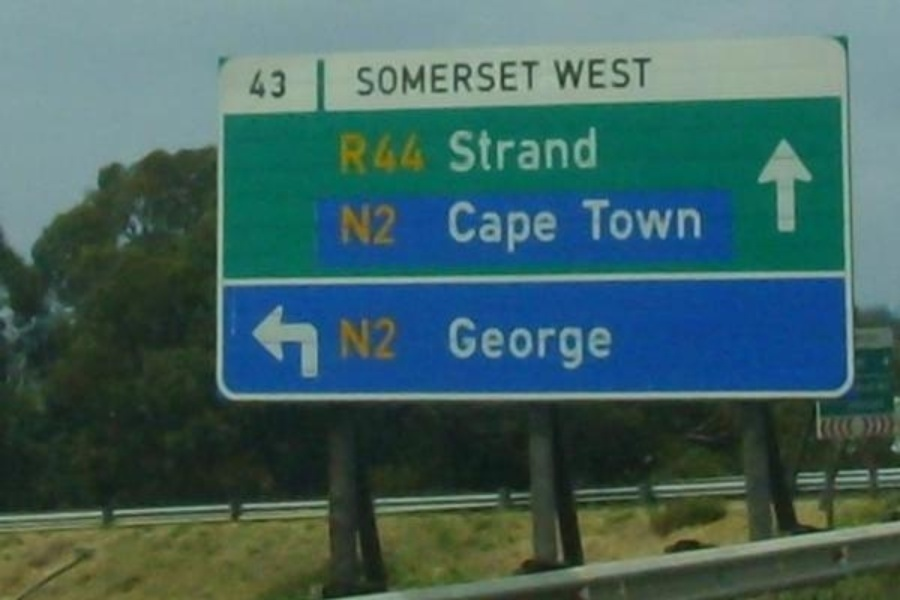text: (449, 197, 464, 256), (465, 197, 480, 256), (481, 197, 496, 256), (497, 197, 512, 256), (513, 197, 528, 256), (529, 197, 544, 256), (545, 197, 560, 256), (449, 316, 464, 371), (465, 316, 480, 371), (481, 316, 496, 371), (497, 316, 512, 371), (513, 316, 528, 371), (529, 316, 544, 371), (545, 316, 560, 371), (561, 316, 576, 371), (577, 316, 592, 371), (593, 316, 608, 371), (417, 128, 433, 178), (385, 317, 401, 364), (337, 128, 352, 178), (353, 128, 368, 178), (369, 128, 384, 178), (385, 128, 400, 178), (401, 128, 416, 178), (385, 202, 401, 248), (449, 127, 464, 175), (465, 127, 480, 175), (481, 127, 496, 175), (497, 127, 512, 175), (513, 127, 528, 175), (529, 127, 544, 175), (545, 127, 560, 175), (561, 127, 576, 175), (577, 127, 592, 175), (593, 196, 608, 244), (609, 196, 624, 244), (625, 196, 640, 244), (641, 196, 656, 244), (657, 196, 672, 244), (673, 196, 688, 244), (689, 196, 704, 244), (353, 317, 368, 364), (369, 317, 384, 364), (353, 202, 368, 248), (369, 202, 384, 248), (338, 317, 352, 364), (338, 202, 352, 248), (369, 61, 384, 98), (385, 61, 400, 98), (401, 61, 416, 98), (417, 61, 432, 98), (433, 61, 448, 98), (449, 61, 464, 98), (465, 61, 480, 98), (481, 61, 496, 98), (497, 61, 512, 98), (513, 61, 528, 98), (581, 196, 592, 244), (561, 58, 576, 92), (577, 58, 592, 92), (593, 58, 608, 92), (609, 58, 624, 92), (625, 58, 640, 92), (273, 70, 289, 100), (257, 70, 272, 100), (529, 61, 541, 98), (641, 58, 653, 92), (609, 316, 616, 371), (358, 61, 368, 98), (593, 127, 599, 175), (554, 58, 560, 92), (250, 70, 256, 100), (445, 127, 448, 175), (446, 197, 448, 256), (446, 316, 448, 371)
